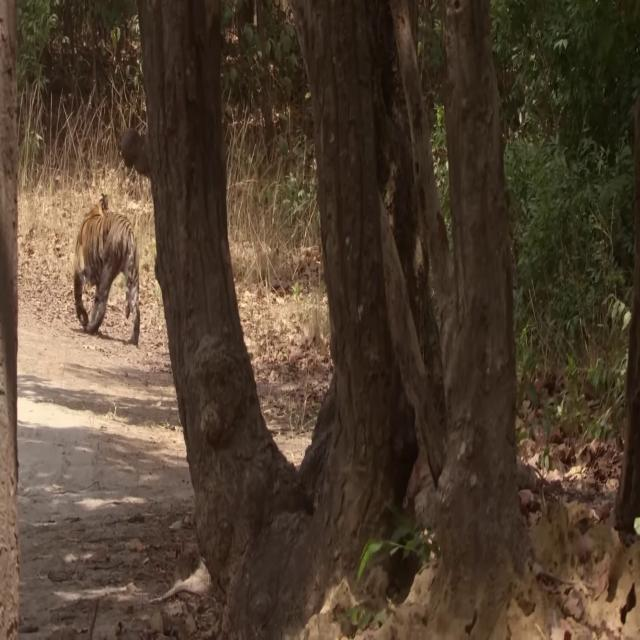tiger: (73, 192, 141, 346)
